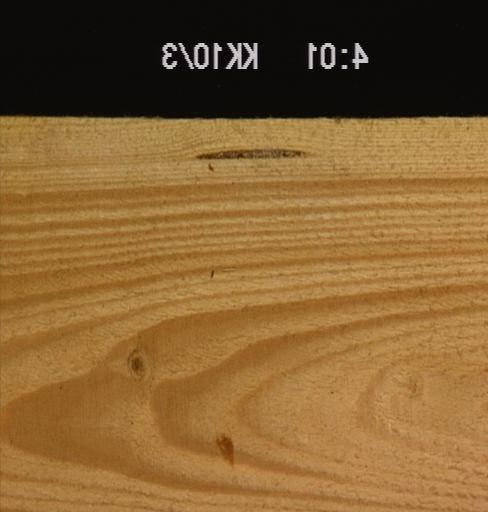sound_knot: (125, 343, 154, 383)
